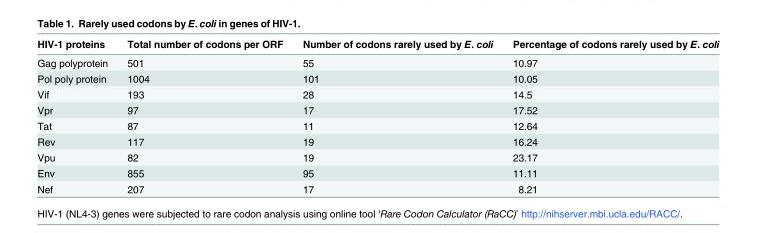table: (36, 37, 718, 194)
table column: (502, 37, 718, 194), (292, 37, 502, 194), (116, 37, 292, 194), (36, 37, 116, 194)
table column header: (36, 37, 718, 53)
table row: (36, 53, 718, 70), (36, 37, 718, 53), (36, 85, 718, 101), (36, 101, 718, 117), (36, 117, 718, 133), (36, 133, 718, 149), (36, 164, 718, 180), (36, 70, 718, 85), (36, 149, 718, 164), (36, 180, 718, 194)
